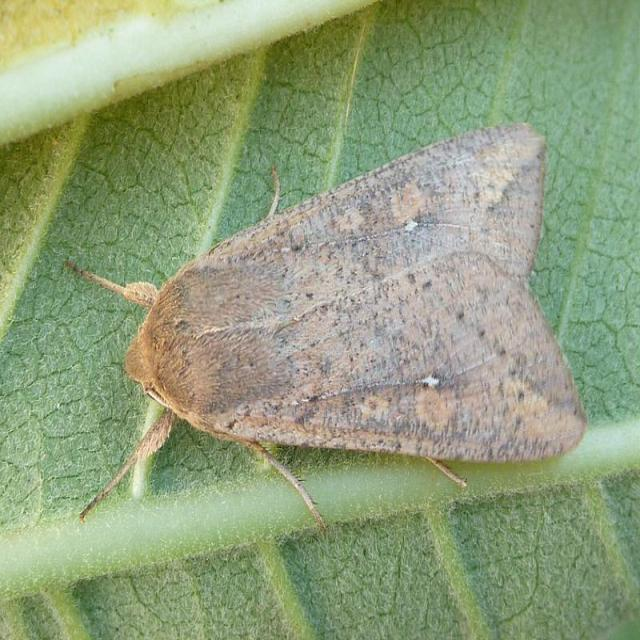armyworm: (105, 152, 586, 488)
